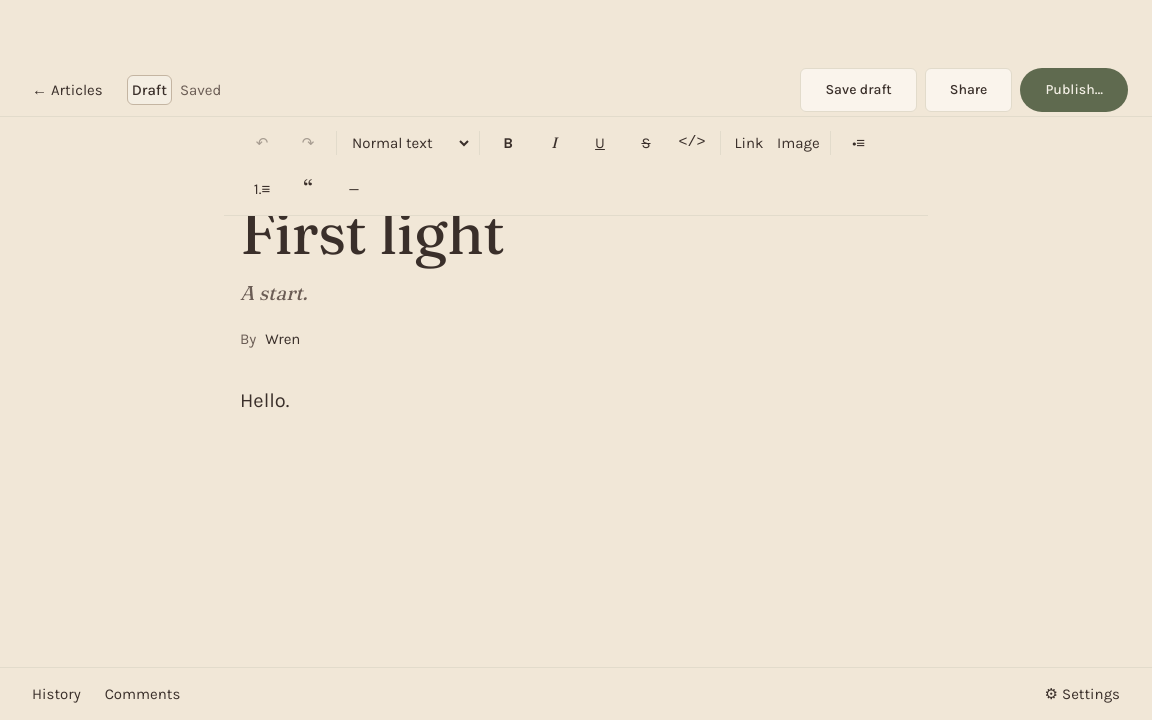
saving › after a successful save it says Saved — new lock and revision are bookkeeping, not unsaved changes
Replace the text in the 1st text box named "Title" with "Changed" at (576, 234), box [240,200,912,269]
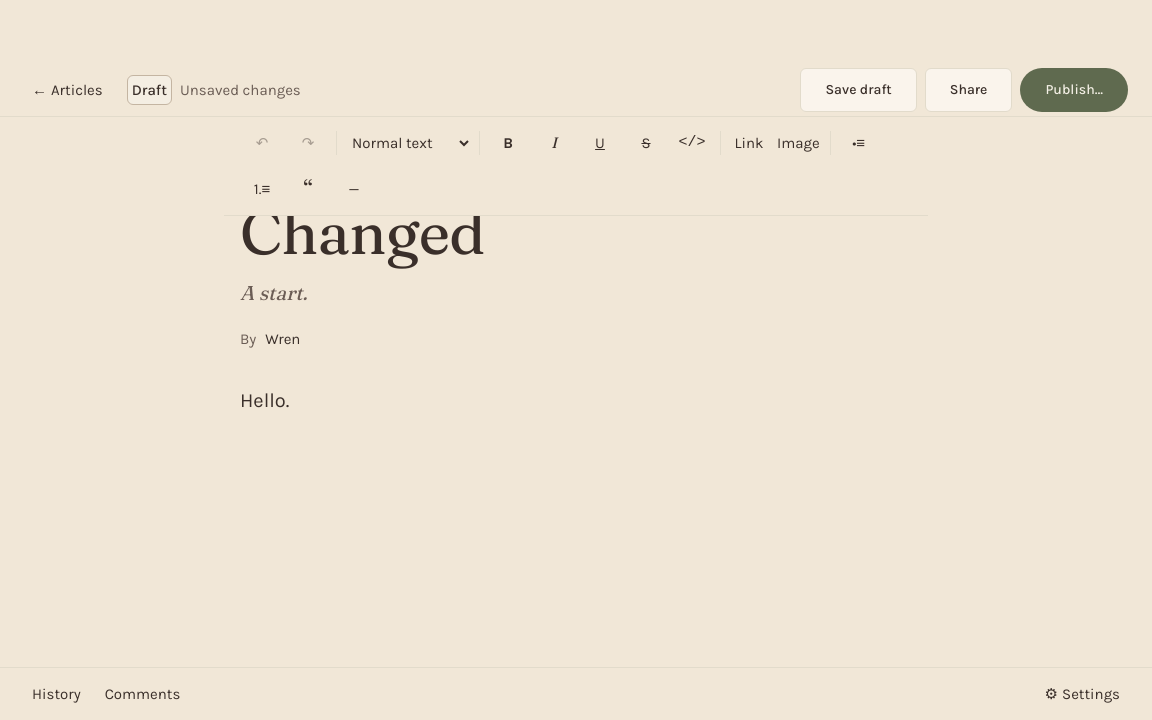
Expected: the text "Unsaved changes" is shown, [180,78,301,102]
Click the button "Save draft" at (859, 90), box [800,68,917,112]
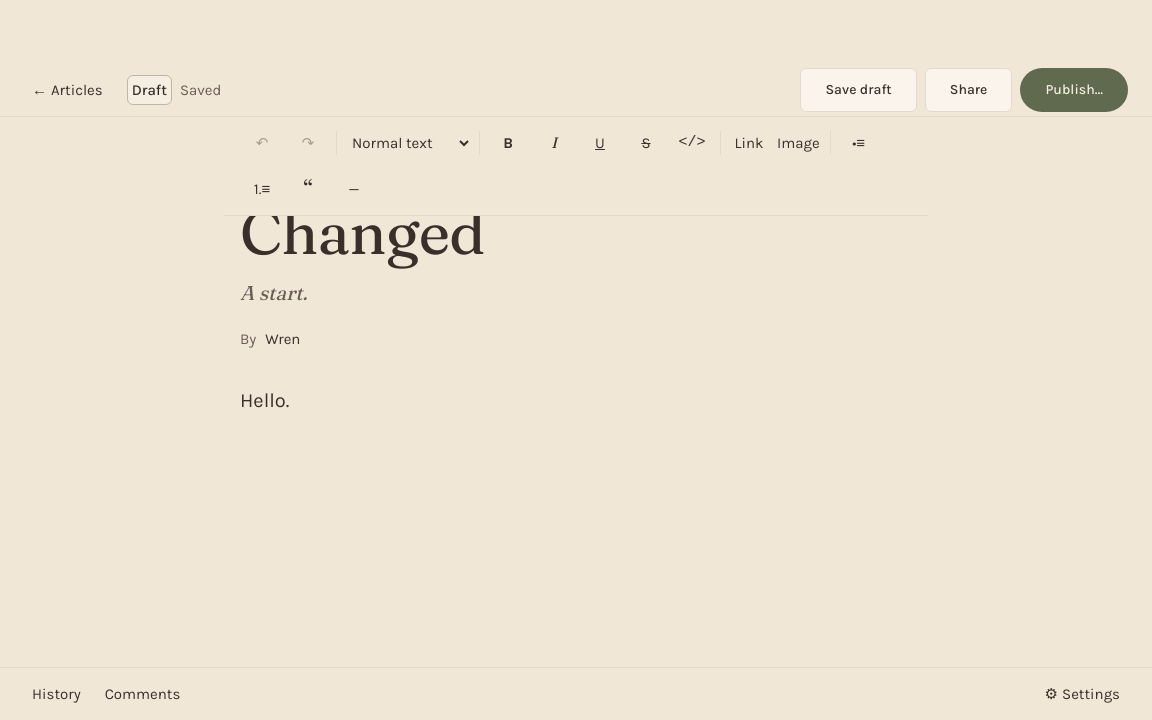
Expected: the text "Saved" is shown, [180,78,221,102]
Expected: the text "Unsaved changes" is gone
